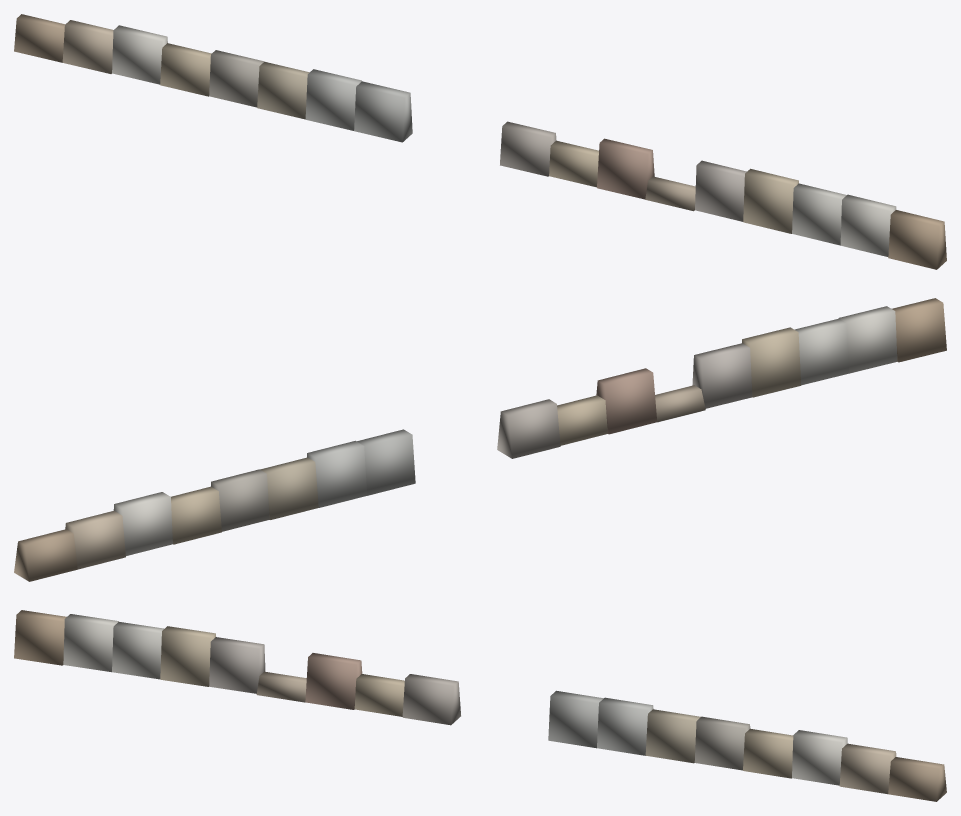
The model's file is farm_3_21_collision.glb.
3 renders of one model, top to bottom at view 1: azimuth 90°, elevation 25°; view 2: azimuth 150°, elevation 25°; view 3: azimuth 270°, elevation 25°, orthographic. The views are drawn at different scales.
Parts seen in each view (by area): view 1: geometry_0; view 2: geometry_0; view 3: geometry_0.
Part boxes in pixels (left/top/right/bottom): geometry_0: left=14, top=14, right=946, bottom=269; geometry_0: left=14, top=298, right=946, bottom=581; geometry_0: left=14, top=610, right=946, bottom=801.
Bounding box in the file's own units: 13.16 × 2.44 × 27.28.
